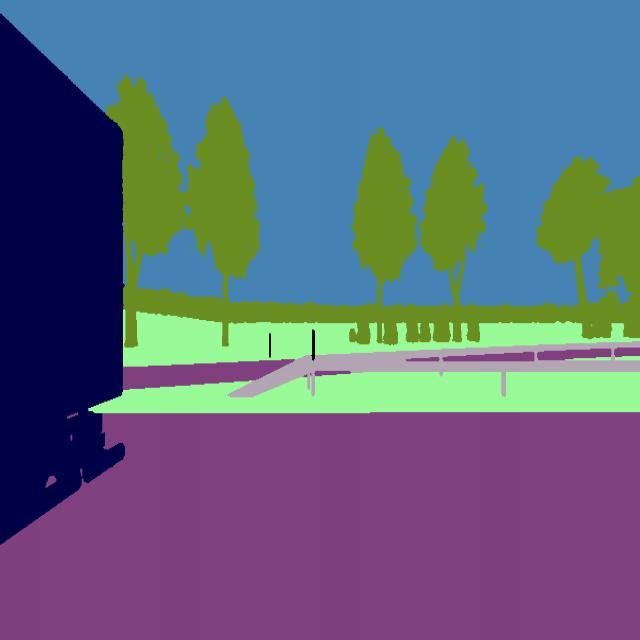unsafe: (0, 0, 129, 549)
